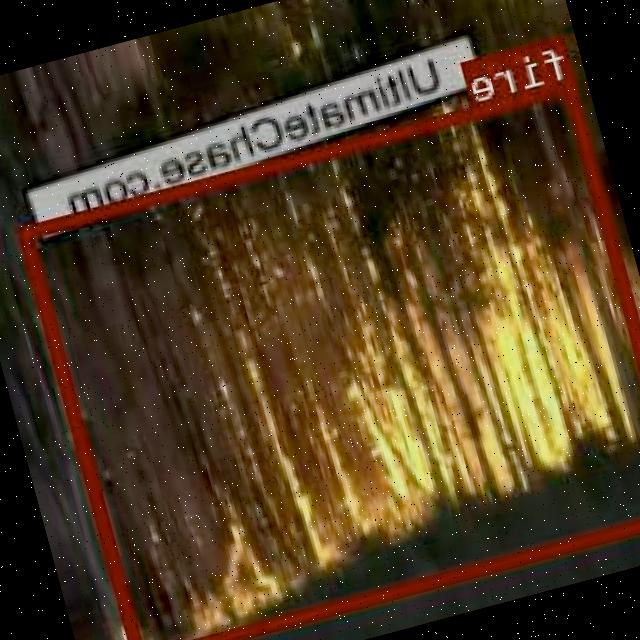fire: (21, 76, 640, 640)
